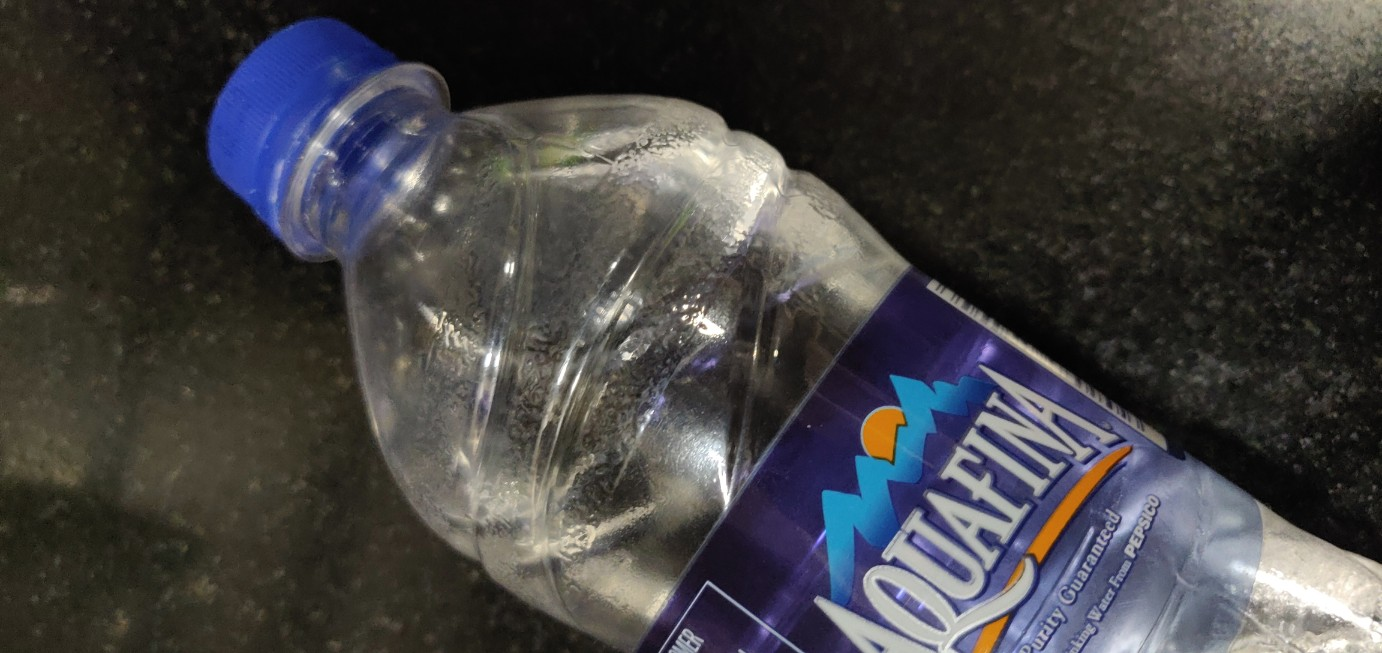Electronics: (181, 16, 1379, 653)
